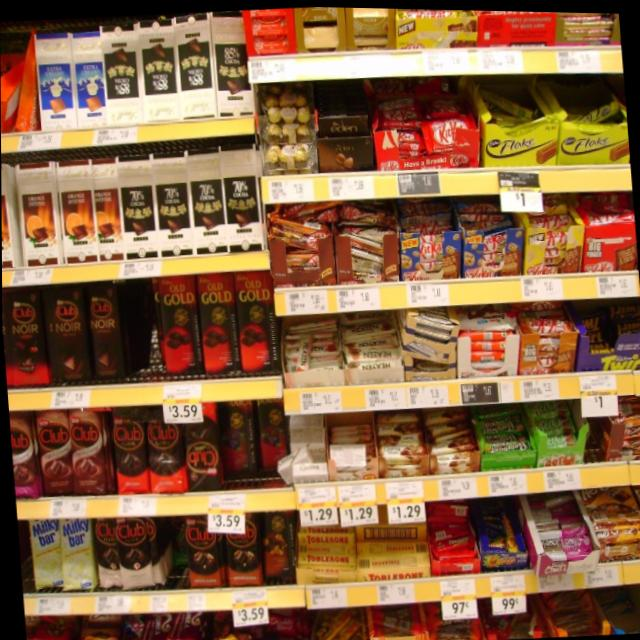q19: (425, 111, 475, 153)
